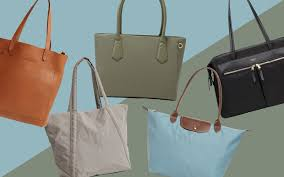bag: (48, 43, 138, 177)
